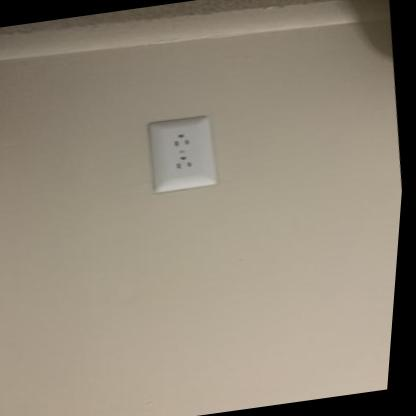OUTLET: (142, 114, 224, 194)
